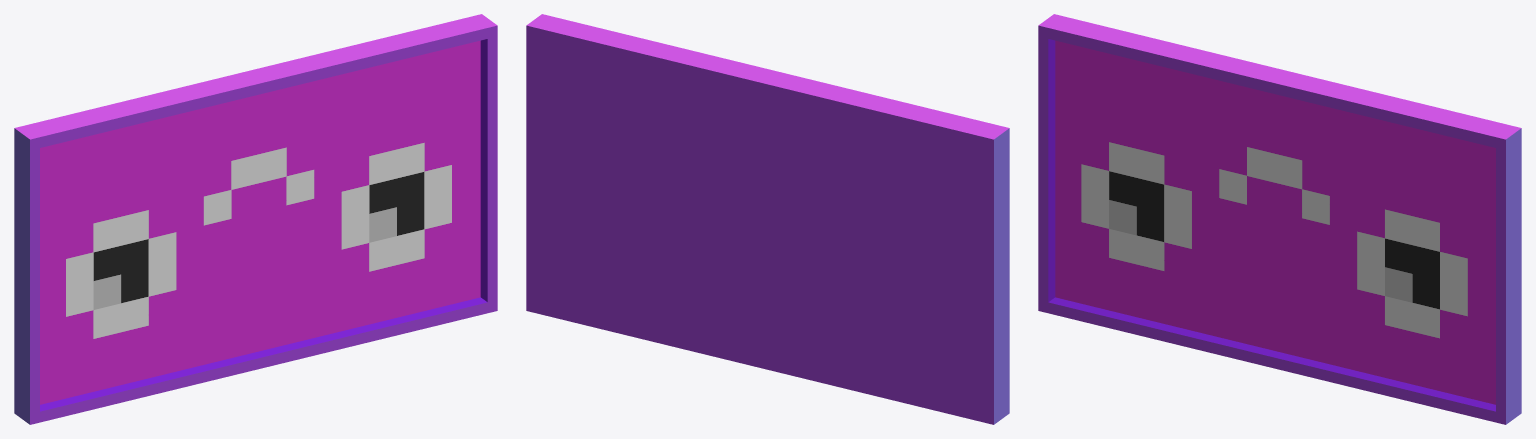
File: 3D_Billboard_12x7_img005.fbx
3 views of the same model, side by side, from view 1: azimuth 30°, elevation 25°; view 2: azimuth 150°, elevation 25°; view 3: azimuth 330°, elevation 25° (orthographic).
Parts seen in each view (by area): view 1: GEO_Billboard_12x7_img005; view 2: GEO_Billboard_12x7_img005; view 3: GEO_Billboard_12x7_img005.
Boxes of the visible parts, x1,y1,x2,y2 form: GEO_Billboard_12x7_img005: [14, 14, 497, 424]; GEO_Billboard_12x7_img005: [526, 14, 1009, 424]; GEO_Billboard_12x7_img005: [1038, 14, 1521, 424].
Size of the model in its own units: 12 by 0.7 by 7.
